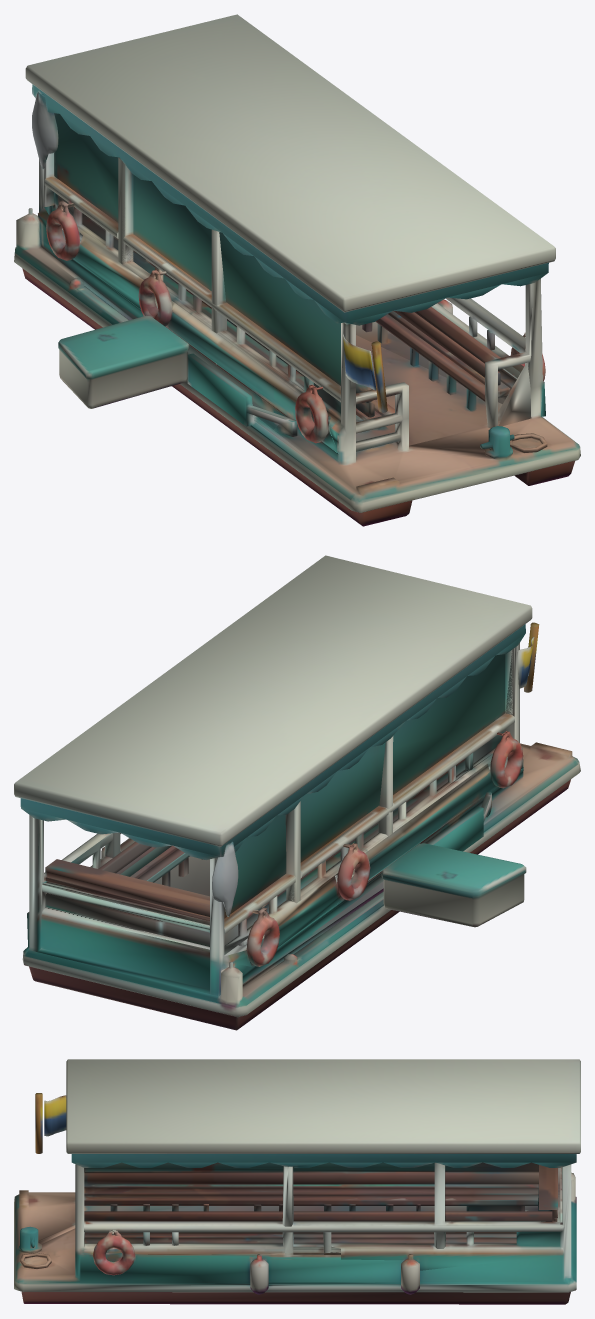
Rendered from planchon.fbx.
The picture shows the model from 3 angles, top to bottom: view 1: azimuth 30°, elevation 25°; view 2: azimuth 150°, elevation 25°; view 3: azimuth 270°, elevation 25°; orthographic projection. The views are drawn at different scales.
Visible parts, largest first — view 1: mesh_rep_0_ori_repair_quad; view 2: mesh_rep_0_ori_repair_quad; view 3: mesh_rep_0_ori_repair_quad.
Boxes of the visible parts, left/top/right/bottom form: mesh_rep_0_ori_repair_quad: left=14, top=14, right=580, bottom=526; mesh_rep_0_ori_repair_quad: left=14, top=555, right=580, bottom=1030; mesh_rep_0_ori_repair_quad: left=14, top=1059, right=580, bottom=1304.
Size of the model in its own units: 896 by 503 by 1545.
1 material, 1 textured.
